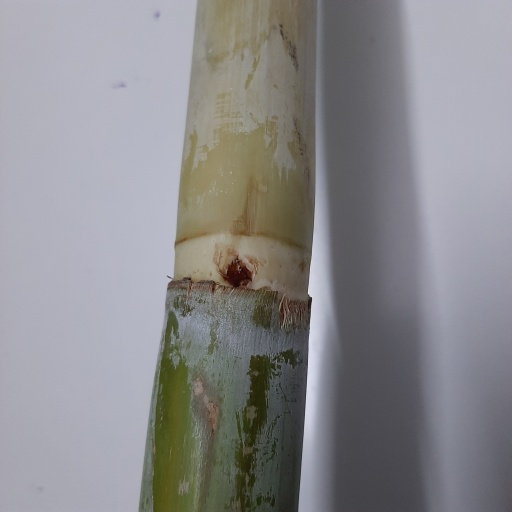Damage_Bud: (224, 254, 254, 286)
